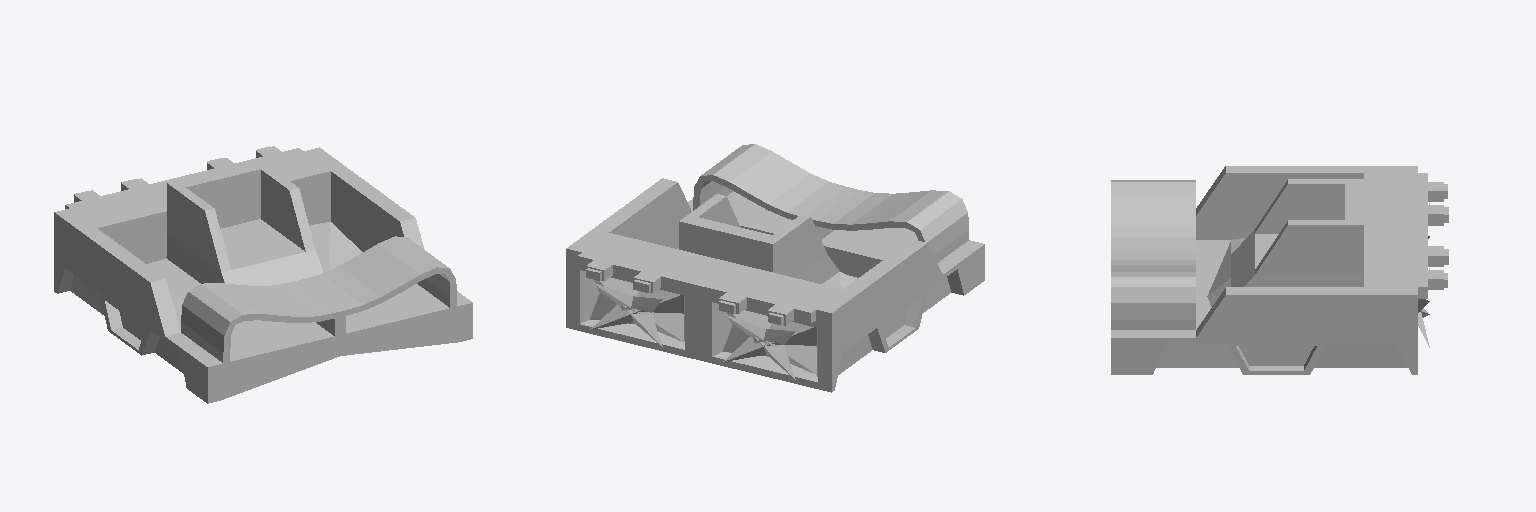
Rendered from Kart2.obj.
3 views of the same model, side by side, from view 1: azimuth 30°, elevation 25°; view 2: azimuth 150°, elevation 25°; view 3: azimuth 270°, elevation 25° (orthographic).
Visible parts, largest first — view 1: pCube5; view 2: pCube5; view 3: pCube5.
Boxes of the visible parts, x1=… form: pCube5: x1=54, y1=146, x2=472, y2=403; pCube5: x1=566, y1=144, x2=984, y2=392; pCube5: x1=1111, y1=166, x2=1448, y2=374.
Bounding box in the file's own units: 1 × 0.3869 × 1.1.